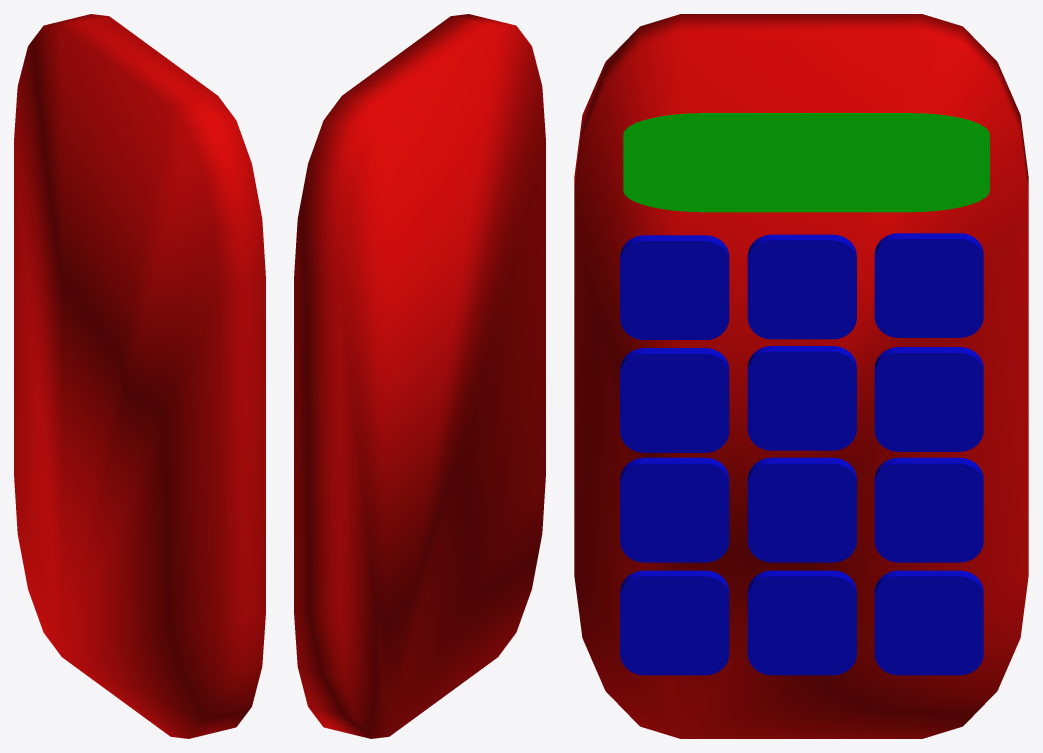
Rendered from Keypad1.fbx.
The picture shows the model from 3 angles, left to right: view 1: azimuth 30°, elevation 25°; view 2: azimuth 150°, elevation 25°; view 3: azimuth 270°, elevation 25°; orthographic projection. The views are drawn at different scales.
Parts seen in each view (by area): view 1: Cube; view 2: Cube; view 3: Cube.
Boxes of the visible parts, <box> form: Cube: <box>14,14,265,738</box>; Cube: <box>294,14,545,738</box>; Cube: <box>574,14,1028,738</box>.
Bounding box in the file's own units: 22.59 × 234 × 138.
